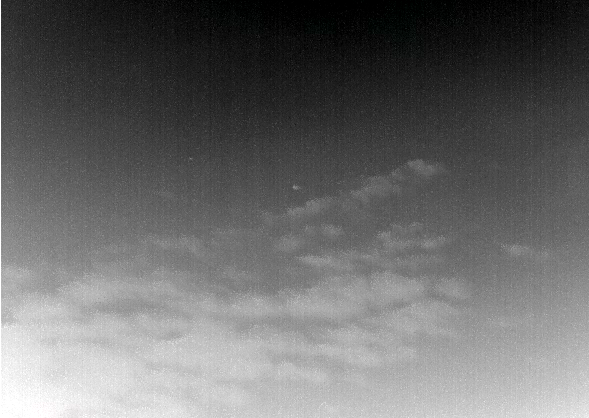dim target: (292, 184, 299, 191), (188, 156, 193, 161)
